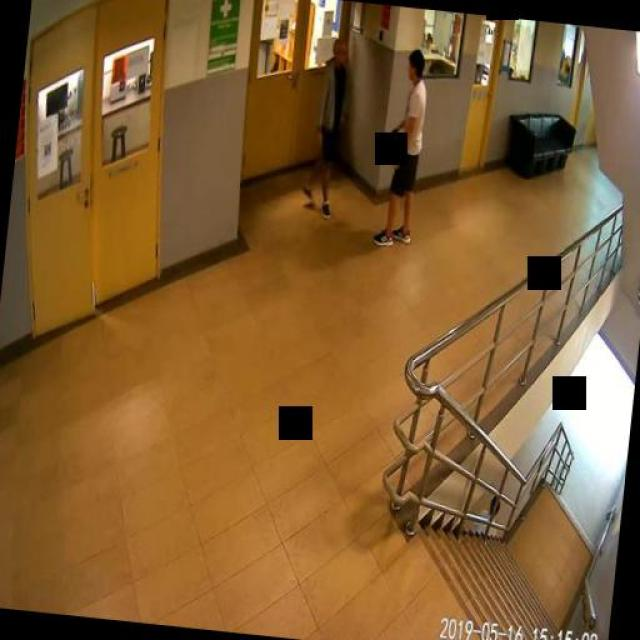gun: (381, 124, 399, 145)
